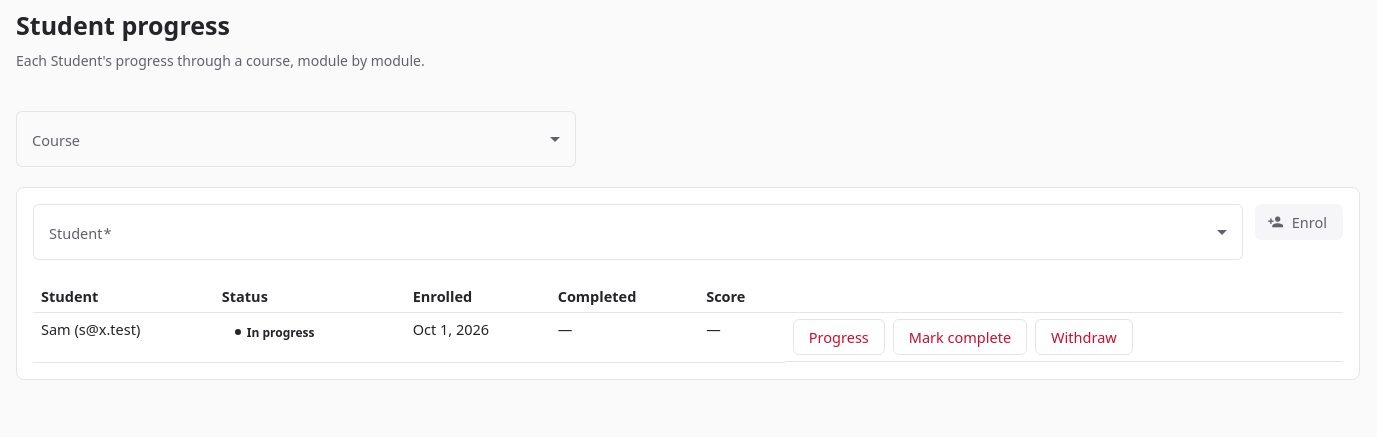
LearnerProgressComponent › marks complete only after the impact dialog, and shows the API-computed grade
This screenshot has width=1377, height=437.
Click the button "Mark complete". click: (960, 337)
box: [893, 319, 1027, 355]
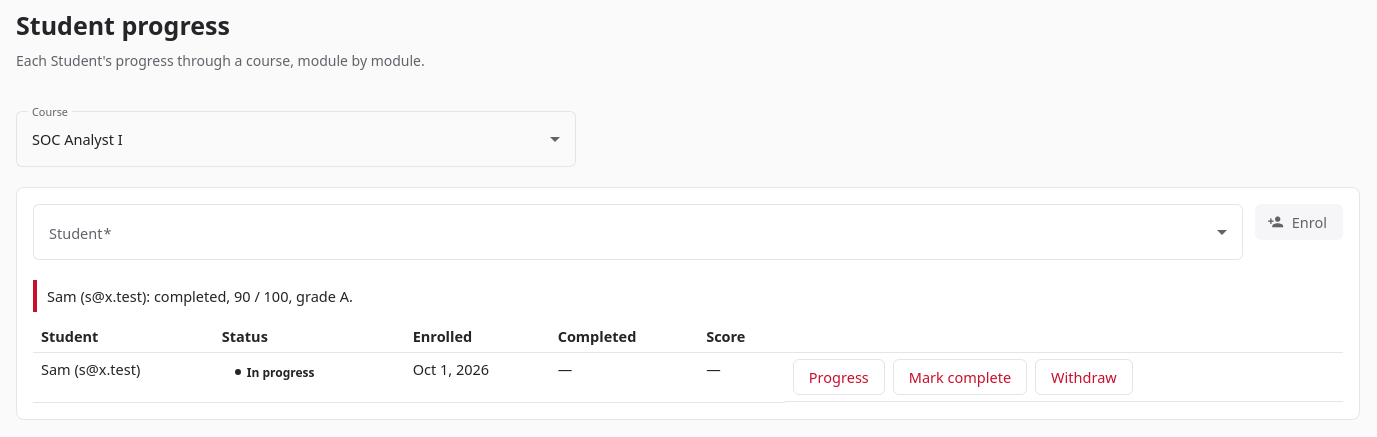
Now the text "completed, 90 / 100, grade A" is shown, box [47, 286, 353, 306]
